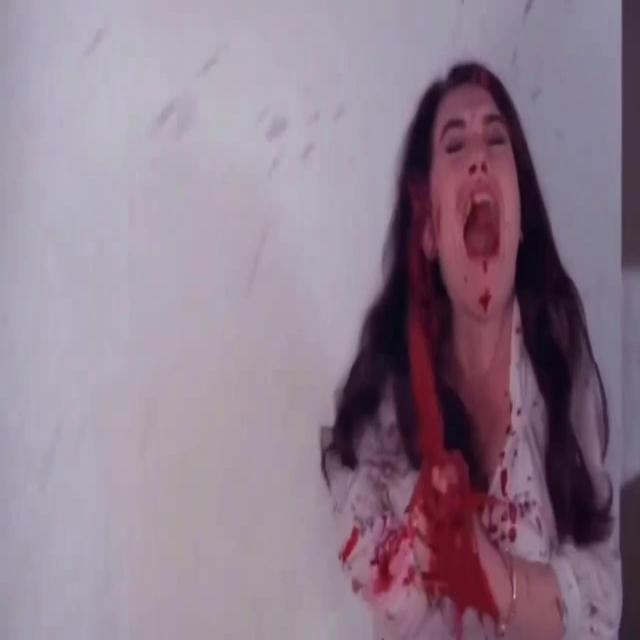flood: (378, 186, 490, 632)
